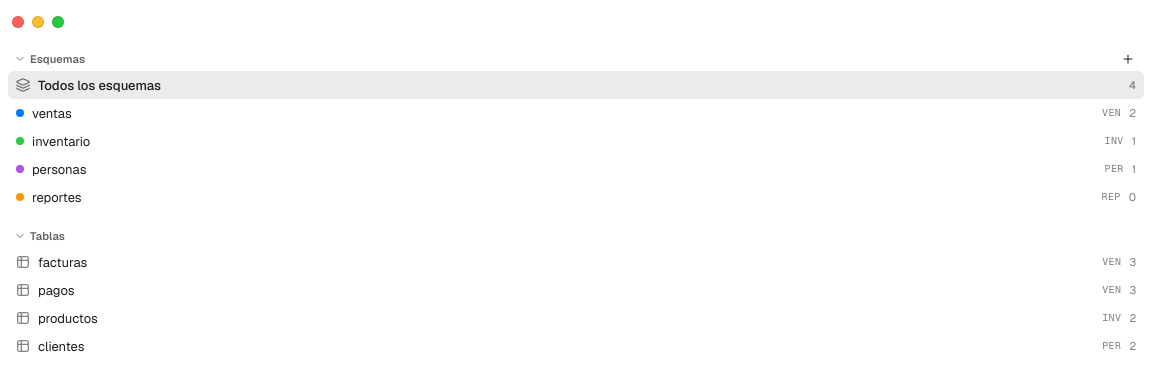
Test: ModelSidebar › el título dice de qué esquema son las tablas (FR-030)
expect the heading "Tablas" is shown: met, box [14,229,65,243]
What coordinates should you click on to do the following:
click the option with aria-label "personas, 1 tabla"
I would click on:
 (59, 169)
Its box is [8,155,1144,183].
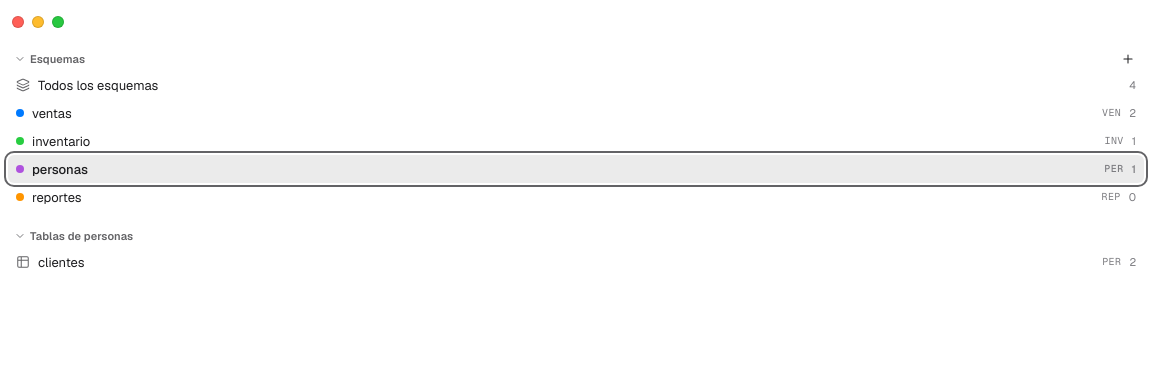
expect the heading "Tablas de personas" is shown: met, box [14,229,133,243]
